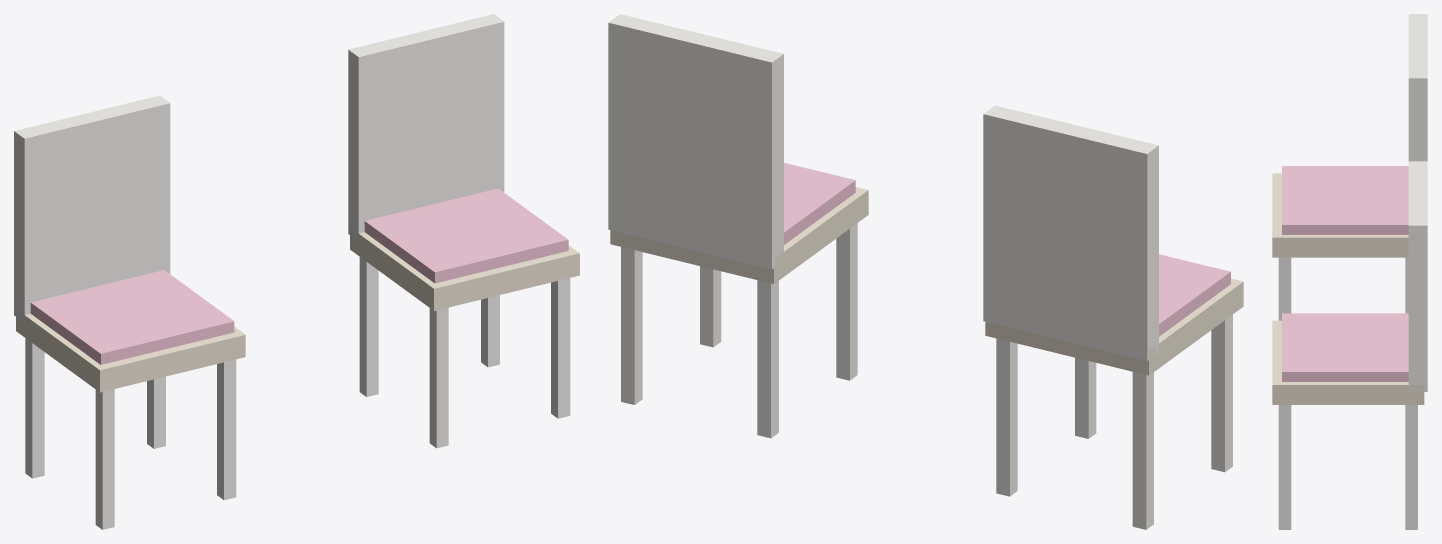
File: balcony_chair.glb
The picture shows the model from 3 angles, left to right: view 1: azimuth 30°, elevation 25°; view 2: azimuth 150°, elevation 25°; view 3: azimuth 270°, elevation 25°; orthographic projection. The views are drawn at different scales.
Visible parts, largest first — view 1: BalconyChair_L, BalconyChair_R; view 2: BalconyChair_L, BalconyChair_R; view 3: BalconyChair_R, BalconyChair_L.
Boxes of the visible parts, <box> form: BalconyChair_L: <box>14,95,245,529</box>; BalconyChair_R: <box>348,14,579,448</box>; BalconyChair_L: <box>983,105,1243,529</box>; BalconyChair_R: <box>608,14,868,438</box>; BalconyChair_R: <box>1272,161,1427,529</box>; BalconyChair_L: <box>1272,14,1427,320</box>.
Bounding box in the file's own units: 1.58 × 1.07 × 0.49.
